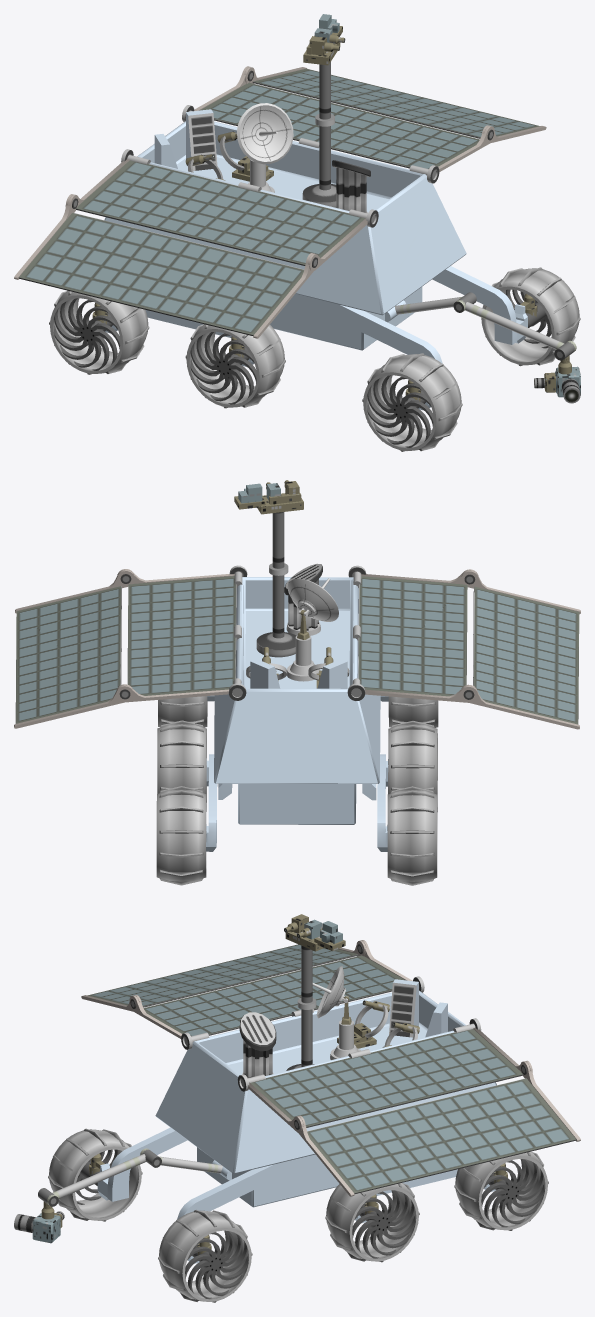
The picture shows the model from 3 angles, top to bottom: view 1: azimuth 30°, elevation 25°; view 2: azimuth 150°, elevation 25°; view 3: azimuth 270°, elevation 25°; orthographic projection. The views are drawn at different scales.
Parts seen in each view (by area): view 1: Yutu (×2); view 2: Yutu (×2); view 3: Yutu (×2).
Part boxes in pixels (x1,y1,x2,y2): Yutu (×2): [14, 14, 580, 451]; Yutu (×2): [14, 480, 580, 885]; Yutu (×2): [14, 914, 580, 1302].
Size of what is drawn, in the model's own units: 1.06 by 0.6066 by 1.
2 materials, 1 textured.
